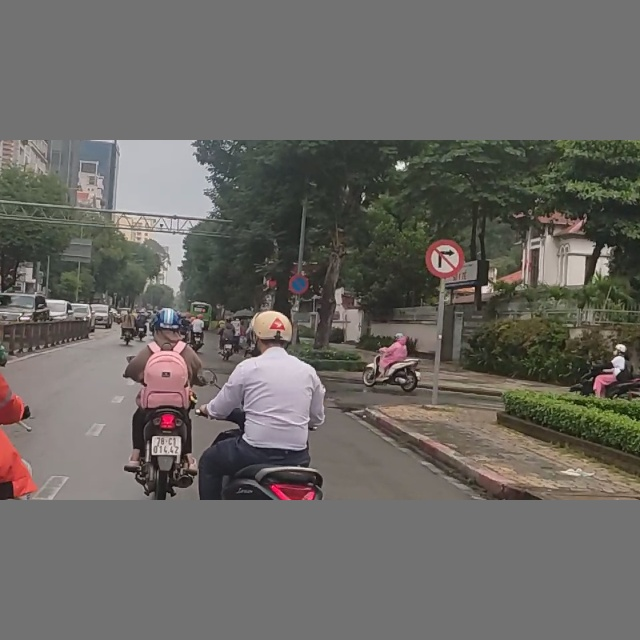P.123b: (425, 239, 465, 279)
P.131a: (289, 274, 309, 295)
